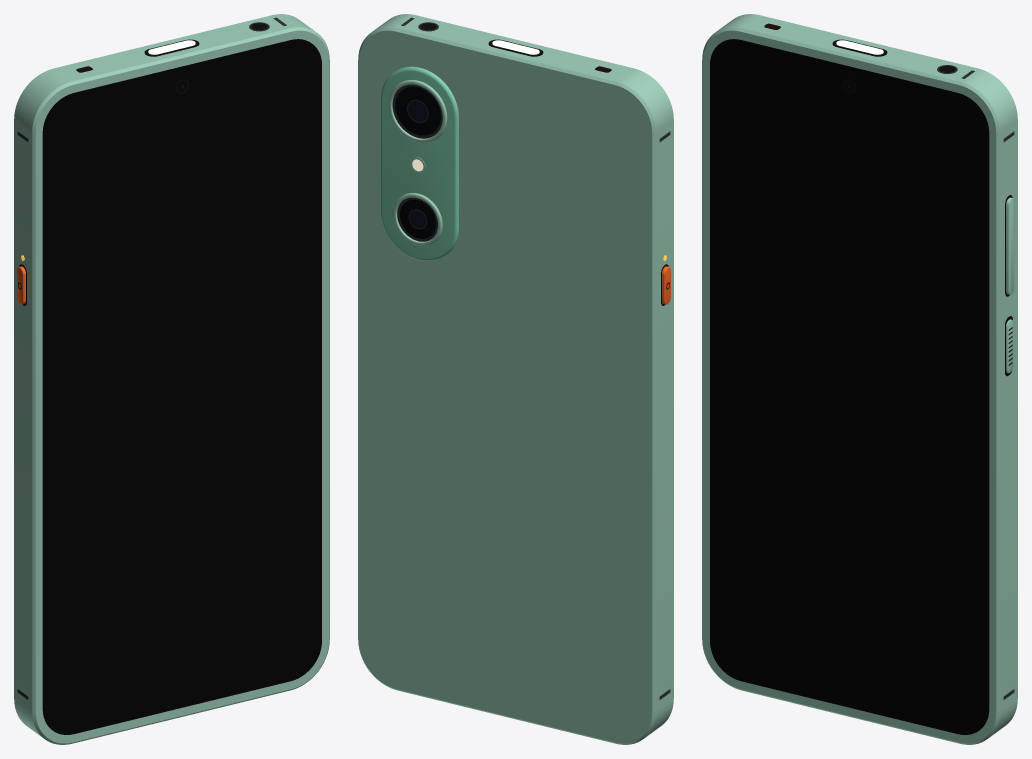
The picture shows the model from 3 angles, left to right: view 1: azimuth 30°, elevation 25°; view 2: azimuth 150°, elevation 25°; view 3: azimuth 330°, elevation 25°; orthographic projection.
Parts seen in each view (by area): view 1: Screen, Frame; view 2: Frame, Body, CameraModules; view 3: Screen, Frame, VolumeRocker.
Boxes of the visible parts, x1,y1,x2,y2 form: Screen: [42, 39, 321, 734]; Frame: [14, 14, 329, 744]; Frame: [358, 14, 673, 744]; Body: [380, 66, 458, 260]; CameraModules: [388, 80, 447, 245]; Screen: [710, 39, 989, 734]; Frame: [702, 14, 1017, 744]; VolumeRocker: [1006, 197, 1014, 294].
Size of the model in its own units: 0.0731 by 0.1524 by 0.0101.
